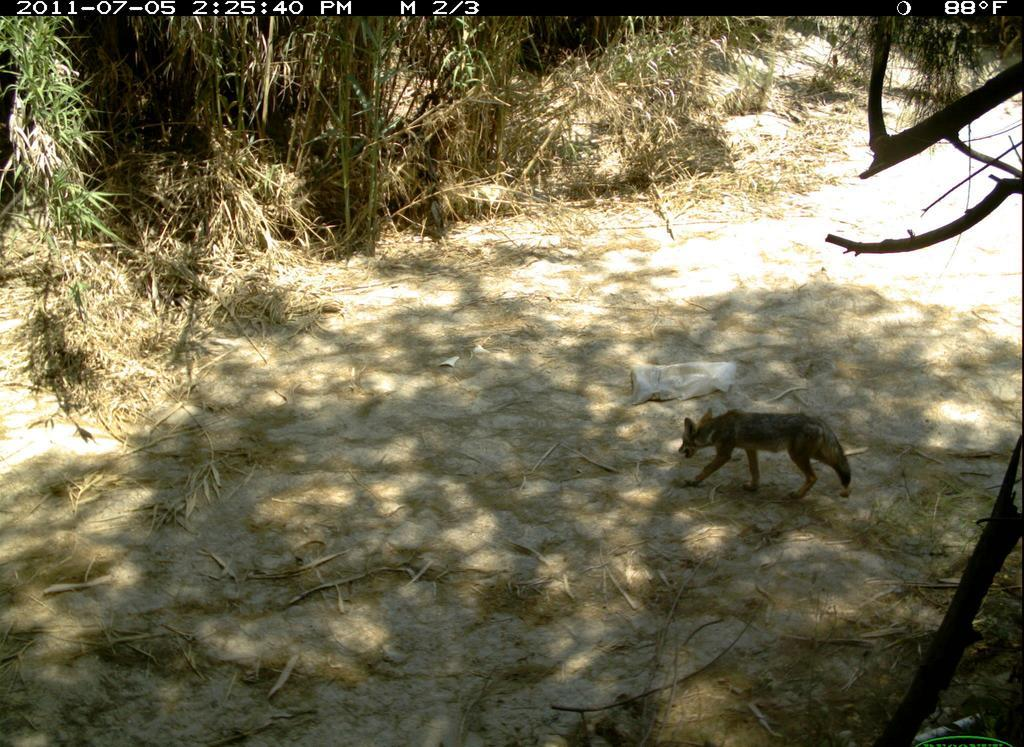coyote: (674, 400, 863, 515)
